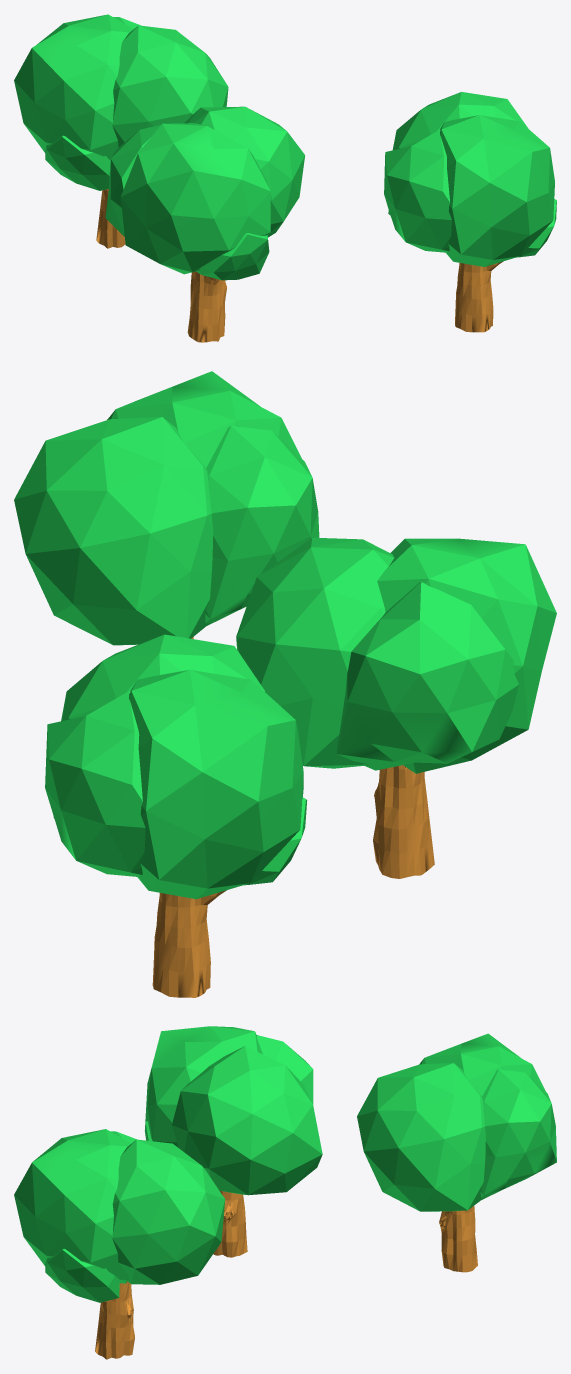
Rendered from tree_level2.glb.
3 views of the same model, one above another, from view 1: azimuth 30°, elevation 25°; view 2: azimuth 150°, elevation 25°; view 3: azimuth 270°, elevation 25° (orthographic). The views are drawn at different scales.
Parts seen in each view (by area): view 1: Cylinder.002, Cylinder.003, Cylinder.001; view 2: Cylinder.002, Cylinder.001, Cylinder.003; view 3: Cylinder.003, Cylinder.001, Cylinder.002.
Boxes of the visible parts, left/top/right/bottom form: Cylinder.002: left=105, top=106, right=305, bottom=342; Cylinder.003: left=384, top=92, right=556, bottom=332; Cylinder.001: left=14, top=14, right=228, bottom=248; Cylinder.002: left=236, top=537, right=556, bottom=878; Cylinder.001: left=45, top=634, right=307, bottom=997; Cylinder.003: left=14, top=371, right=319, bottom=645; Cylinder.003: left=14, top=1129, right=225, bottom=1359; Cylinder.001: left=357, top=1033, right=556, bottom=1272; Cylinder.002: left=144, top=1026, right=322, bottom=1257.
Size of the model in its own units: 1.25 by 0.7091 by 1.65.
